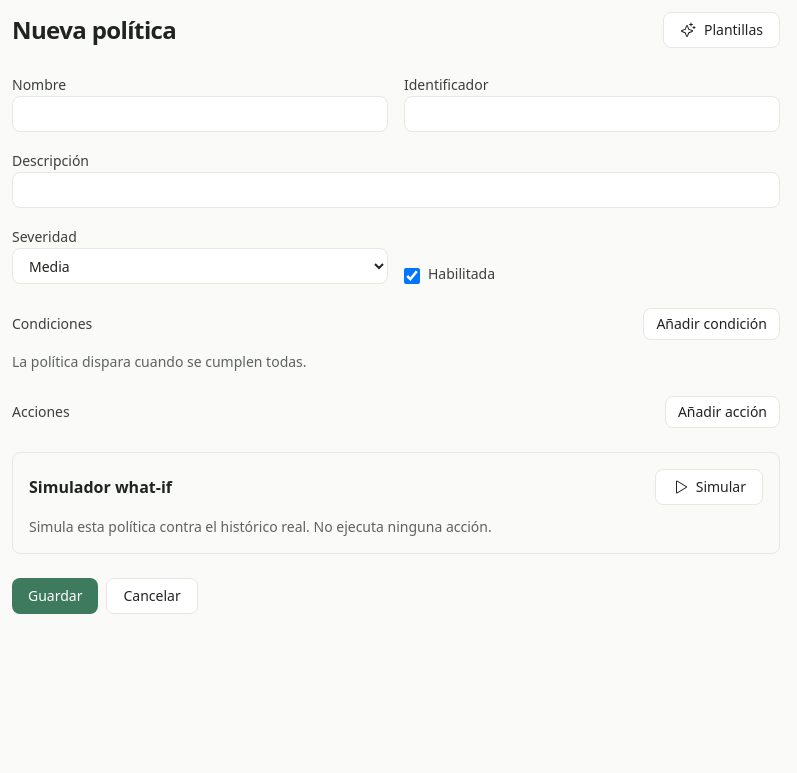
Test case: con una acción destructiva el guardar está deshabilitado hasta ejecutar el what-if
Click the button "Añadir acción": (722, 412) x1=665 y1=396 x2=780 y2=428
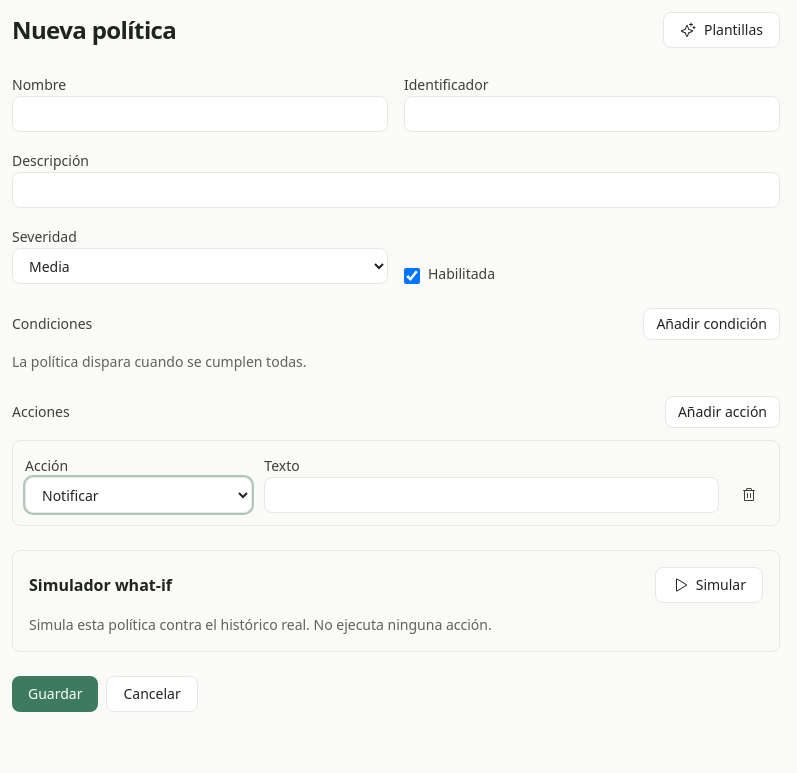
Select "Borrado completo" in the dropdown labelled "Acción": (139, 495) x1=25 y1=477 x2=252 y2=513
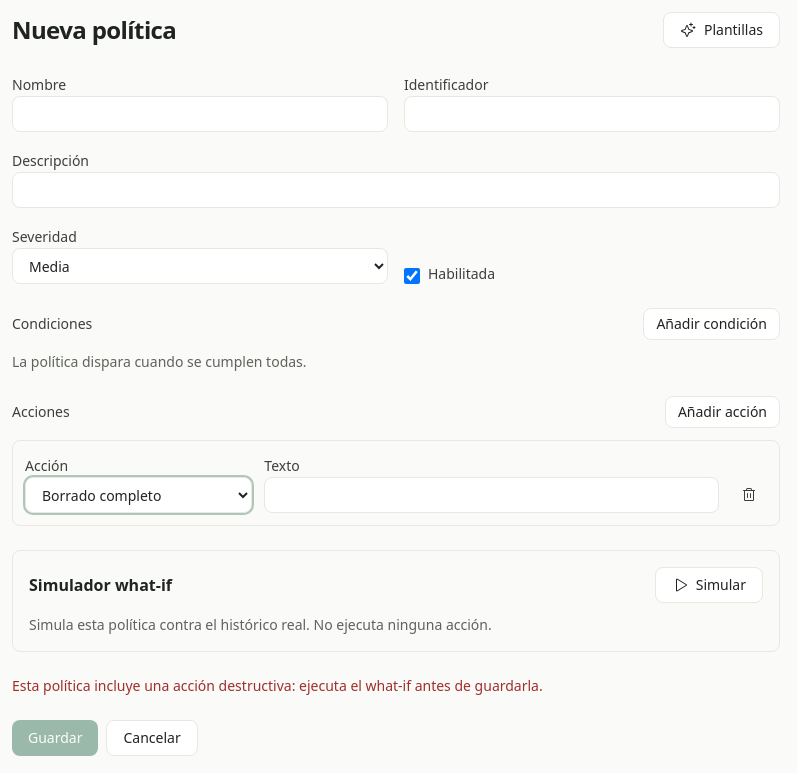
Expected: the button "Guardar" is disabled, x1=12 y1=720 x2=98 y2=756
Expected: the text "Esta política incluye una acción destructiva: ejecuta el what-if antes de guardarla." is shown, x1=12 y1=676 x2=543 y2=695
Click the button "Simular": (709, 585) x1=655 y1=567 x2=763 y2=603
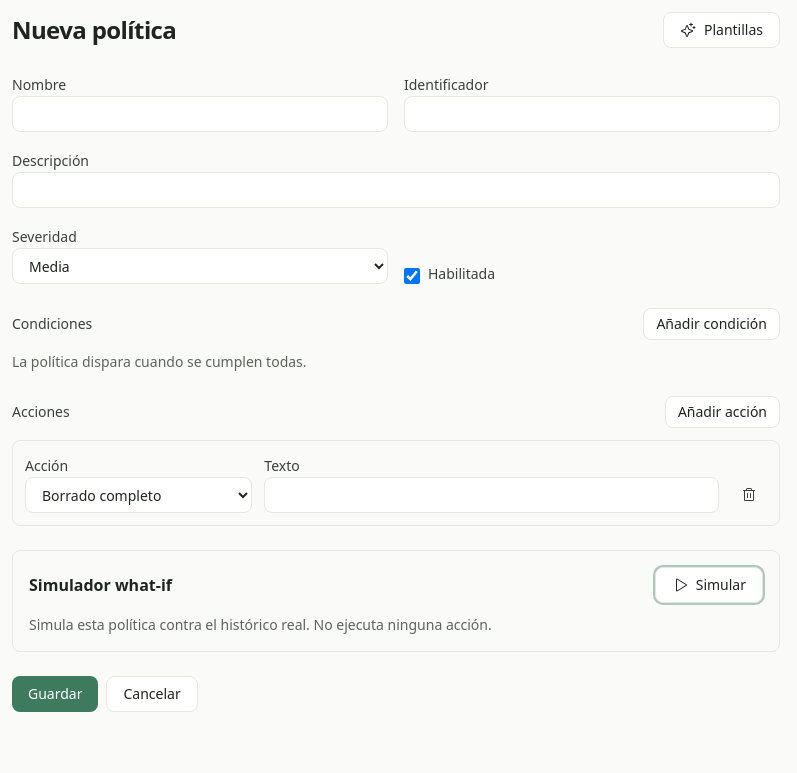
Expected: the button "Guardar" is enabled, x1=12 y1=676 x2=98 y2=712
